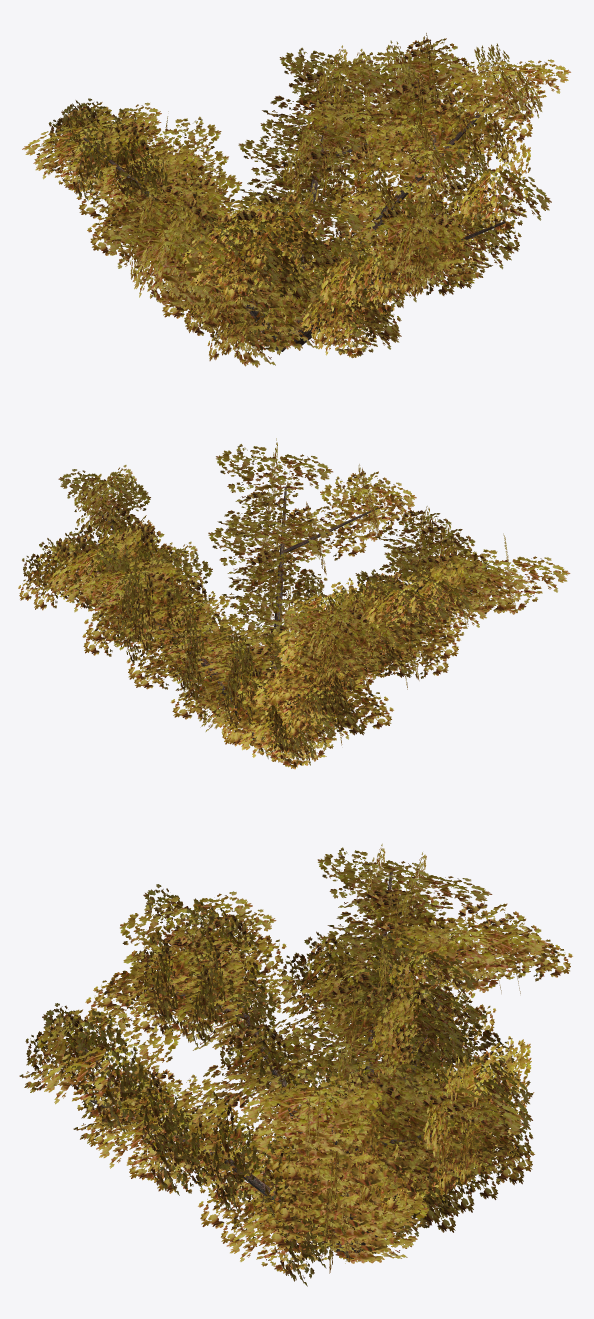
Rendered from bush_3d_02_yellow_lod0.glb.
The picture shows the model from 3 angles, top to bottom: view 1: azimuth 30°, elevation 25°; view 2: azimuth 150°, elevation 25°; view 3: azimuth 270°, elevation 25°; orthographic projection. The views are drawn at different scales.
Visible parts, largest first — view 1: foliage_cards, wood_geometry; view 2: foliage_cards, wood_geometry; view 3: foliage_cards, wood_geometry.
Part boxes in pixels (<box>): foliage_cards: <box>22,33,570,367</box>; wood_geometry: <box>83,69,505,351</box>; foliage_cards: <box>18,438,570,769</box>; wood_geometry: <box>68,486,483,749</box>; foliage_cards: <box>19,843,572,1286</box>; wood_geometry: <box>85,869,491,1260</box>.
Size of the model in its own units: 3.1 by 1.49 by 2.51.
2 materials, 2 textured.
